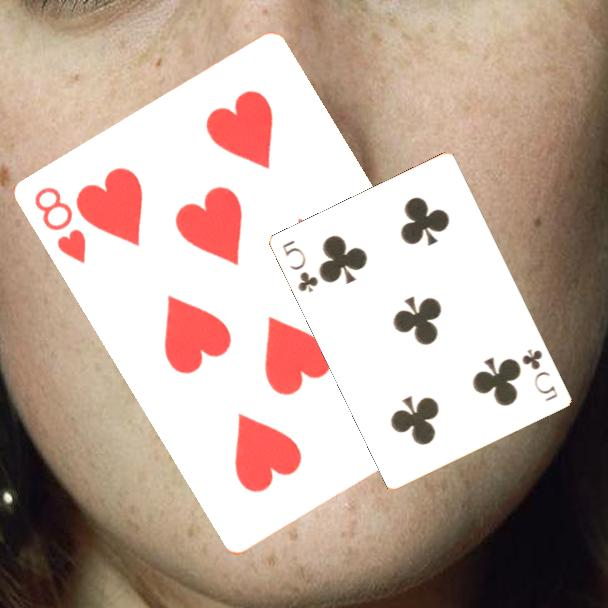c05: (518, 345, 561, 404), (279, 237, 322, 296)
h08: (31, 183, 90, 267)
